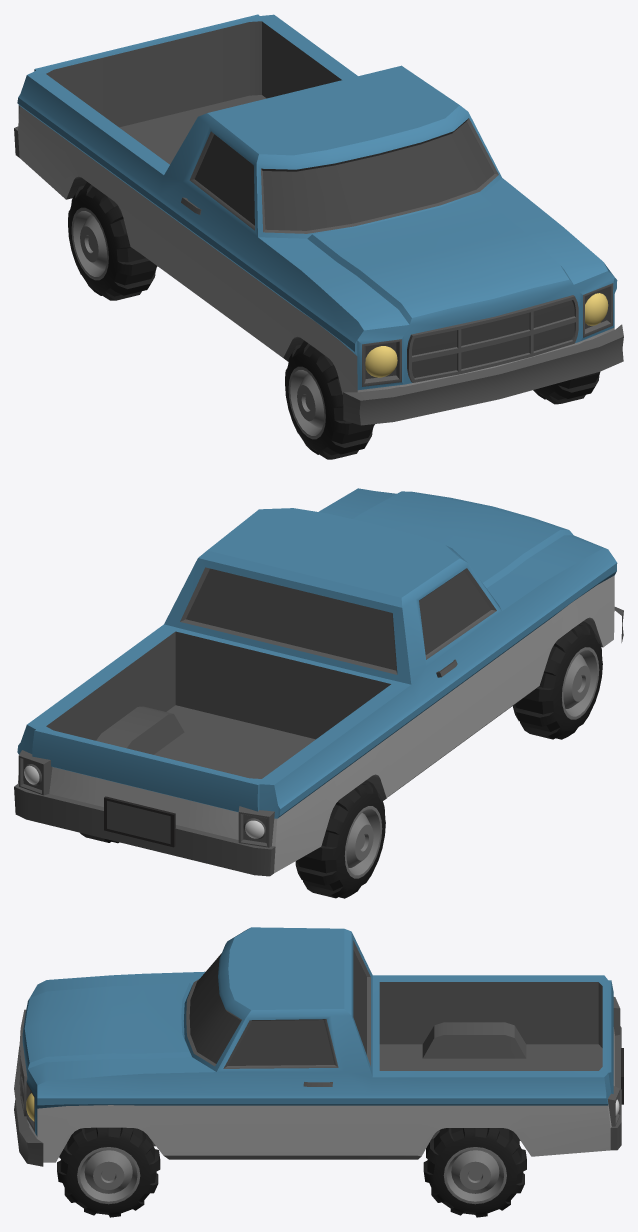
Rendered from Car3.glb.
3 renders of one model, top to bottom at view 1: azimuth 30°, elevation 25°; view 2: azimuth 150°, elevation 25°; view 3: azimuth 270°, elevation 25°, orthographic. The views are drawn at different scales.
Visible parts, largest first — view 1: Pickup, BackWheels, FrontWheel_R, FrontWheel_L; view 2: Pickup, BackWheels, FrontWheel_R; view 3: Pickup, BackWheels, FrontWheel_L.
Part boxes in pixels (bbox=[...]): Pickup: bbox=[14, 14, 623, 425]; BackWheels: bbox=[68, 182, 157, 300]; FrontWheel_R: bbox=[285, 340, 374, 459]; FrontWheel_L: bbox=[533, 372, 600, 404]; Pickup: bbox=[14, 488, 623, 876]; BackWheels: bbox=[80, 780, 385, 898]; FrontWheel_R: bbox=[512, 621, 602, 739]; Pickup: bbox=[14, 927, 623, 1166]; BackWheels: bbox=[423, 1128, 526, 1217]; FrontWheel_L: bbox=[57, 1127, 160, 1217].
Size of the model in its own units: 6.57 by 5.25 by 14.72.
Materials: 3 (1 with a texture image).
